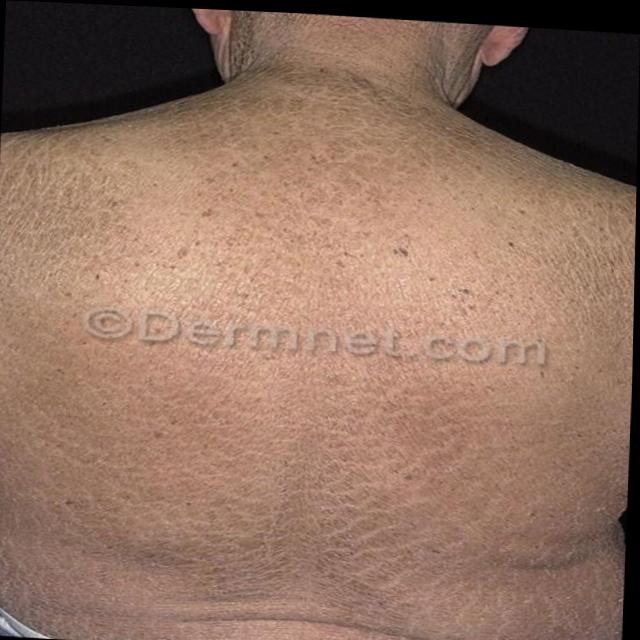liquenificacion 1: (0, 10, 637, 640)
